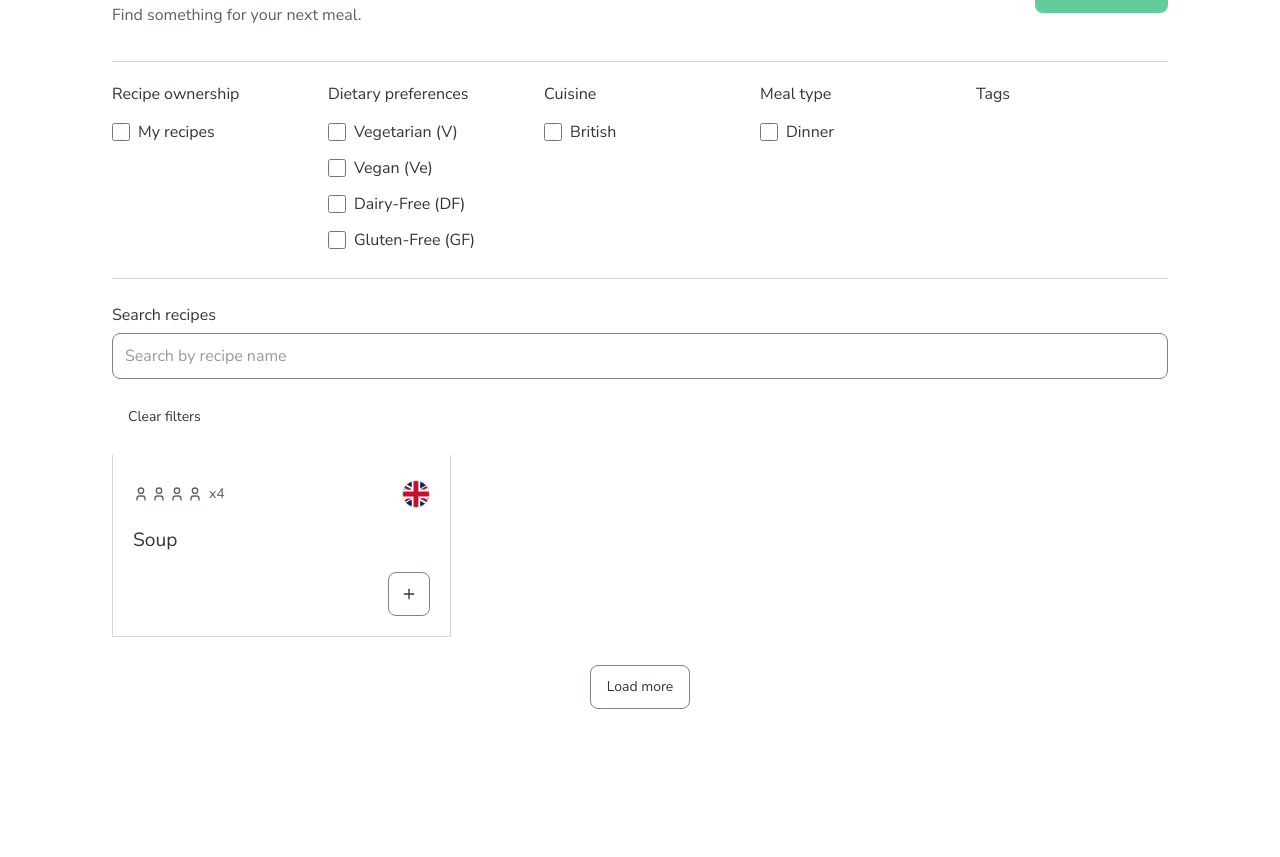
Test: keeps loaded cards when another page fails and retries that page
(page scrolled)
Click the button "Load more" at x=640, y=688, box x1=590 y1=666 x2=690 y2=710
(page scrolled)
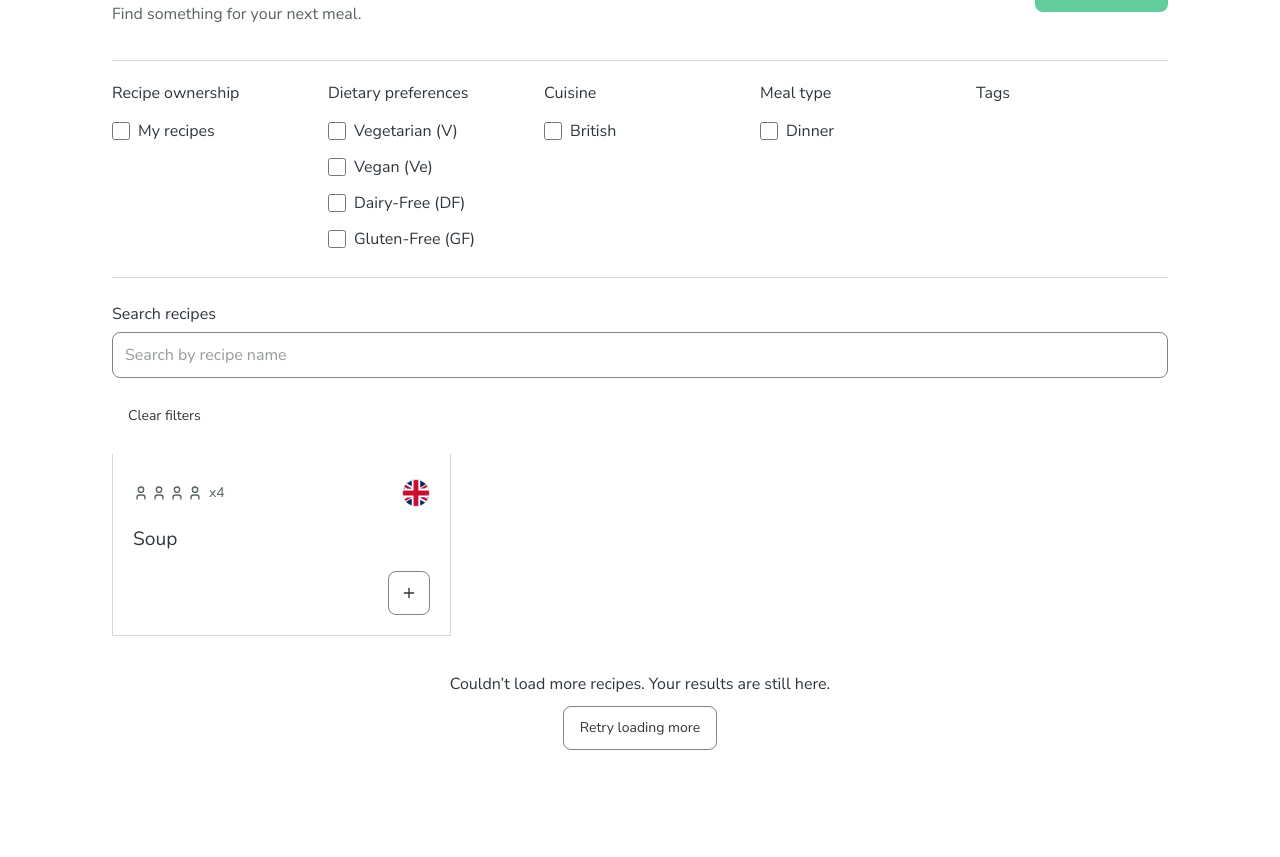
Expected: the link "Soup" is shown, x1=133 y1=526 x2=177 y2=552
Expected: the message shows "Couldn’t load more recipes", x1=450 y1=674 x2=830 y2=696
Click the button "Retry loading more" at x=640, y=728, box x1=563 y1=706 x2=717 y2=750
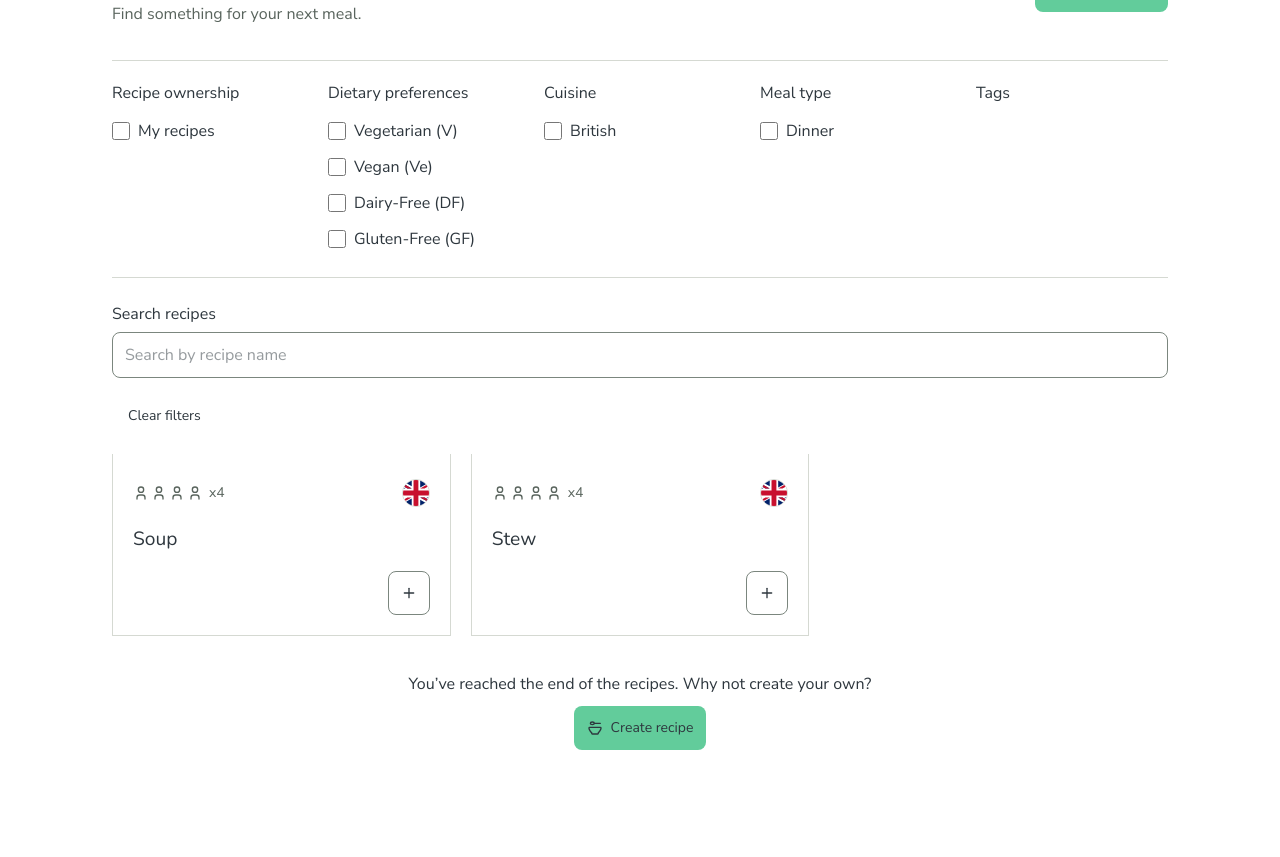
Expected: the link "Stew" is shown, x1=492 y1=526 x2=536 y2=552
